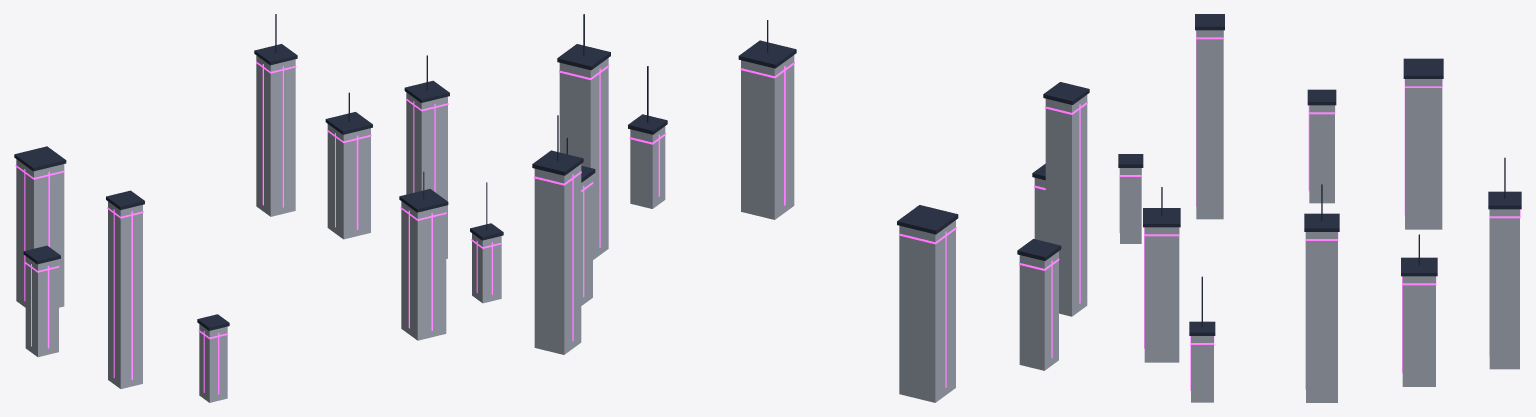
The picture shows the model from 3 angles, left to right: view 1: azimuth 30°, elevation 25°; view 2: azimuth 150°, elevation 25°; view 3: azimuth 270°, elevation 25°; orthographic projection. The views are drawn at different scales.
Visible parts, largest first — view 1: nexo_spires_pixel.lod0; view 2: nexo_spires_pixel.lod0; view 3: nexo_spires_pixel.lod0.
Boxes of the visible parts, bbox=[...] form: nexo_spires_pixel.lod0: bbox=[14, 14, 503, 402]; nexo_spires_pixel.lod0: bbox=[532, 14, 1089, 402]; nexo_spires_pixel.lod0: bbox=[1118, 14, 1521, 402].
Bounding box in the file's own units: 26.37 × 12.3 × 21.24.
